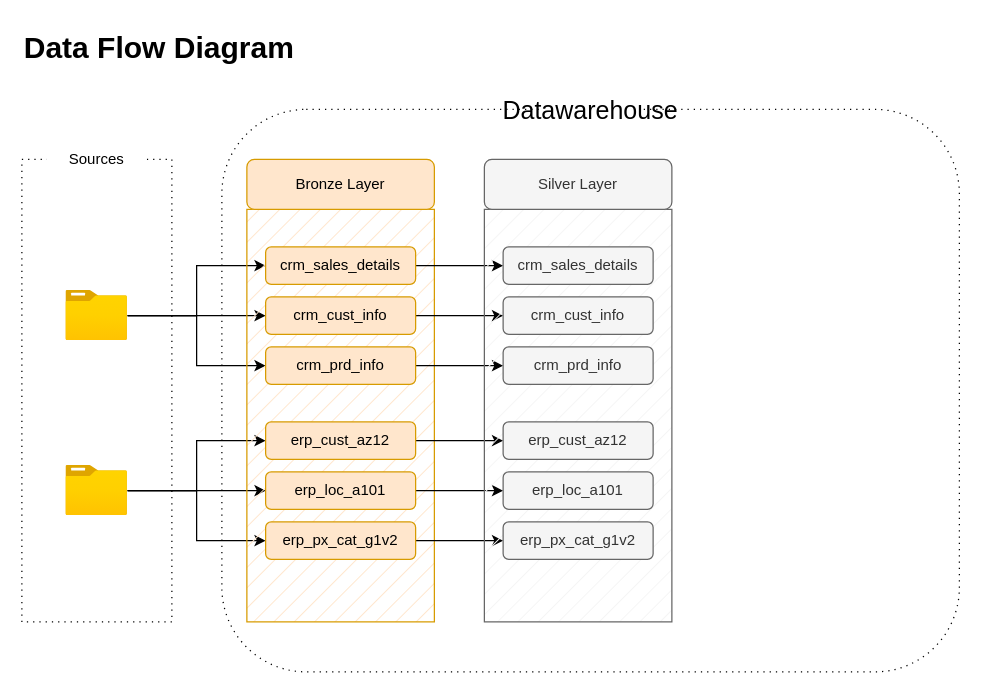
Some shapes in this 981 by 694 pixel diagram are drawn without their labels. Each missing label, with the box of its shape:
CRM: (65, 290, 127, 340)
ERP: (65, 465, 127, 515)
